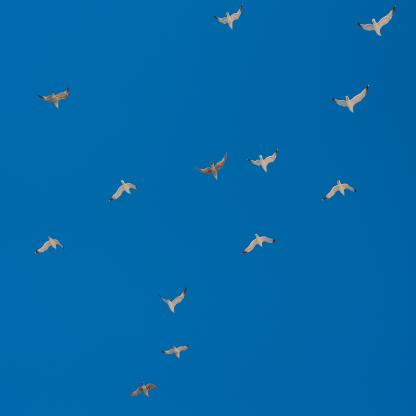bird: (357, 5, 396, 37), (332, 84, 370, 115), (195, 153, 227, 183), (214, 3, 243, 32), (246, 148, 278, 174), (322, 179, 358, 202), (158, 286, 187, 314), (110, 179, 138, 206), (242, 233, 276, 255), (38, 88, 69, 110), (34, 235, 64, 255), (128, 382, 158, 398), (161, 344, 188, 360)
